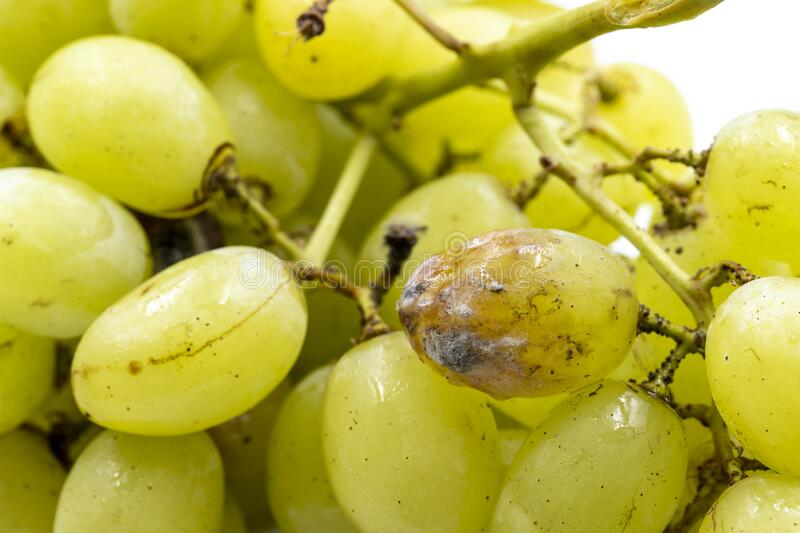Healthy: (22, 36, 258, 217), (76, 248, 308, 432), (323, 335, 500, 533), (491, 386, 694, 533), (0, 169, 148, 335), (695, 281, 800, 477), (57, 424, 228, 533), (700, 105, 800, 279), (699, 475, 800, 533)
Unhealthy: (396, 211, 642, 400)
